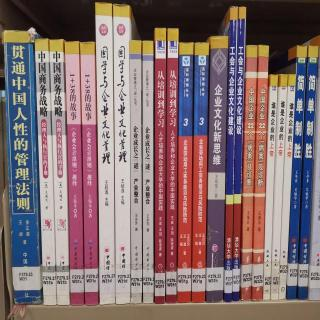book-spine: (1, 29, 43, 305), (204, 35, 230, 305), (94, 2, 116, 304), (34, 38, 57, 306), (296, 46, 319, 300), (49, 40, 71, 305), (64, 41, 86, 305), (112, 4, 131, 304), (237, 46, 259, 302), (80, 43, 100, 305), (176, 43, 196, 305), (287, 44, 307, 301), (251, 46, 270, 300), (277, 71, 296, 300), (193, 43, 209, 304), (269, 74, 287, 301), (128, 41, 143, 306), (232, 6, 245, 302), (263, 76, 279, 301), (166, 29, 179, 303), (226, 8, 238, 302), (155, 28, 167, 305), (142, 41, 154, 304)
